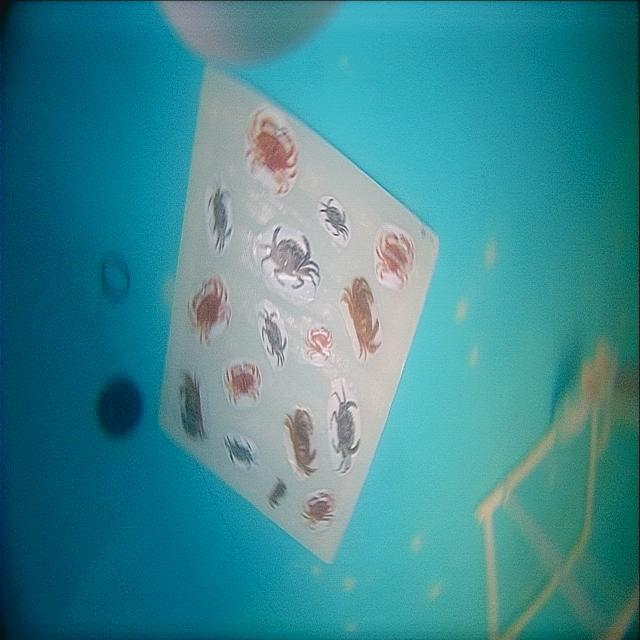GreenCrab: (258, 226, 321, 295), (330, 385, 359, 472), (259, 309, 287, 366), (320, 197, 349, 238)
